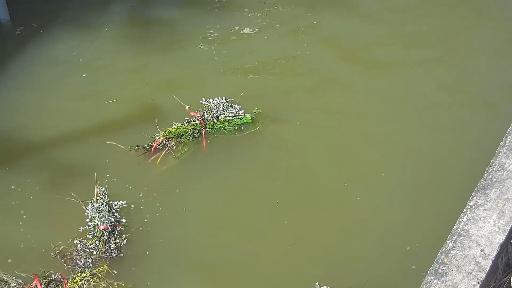twig: (131, 90, 259, 161), (50, 180, 141, 265), (0, 267, 134, 288)
